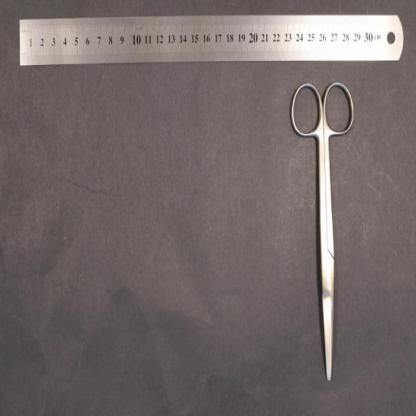Curved Mayo Scissors: (290, 76, 356, 380)
